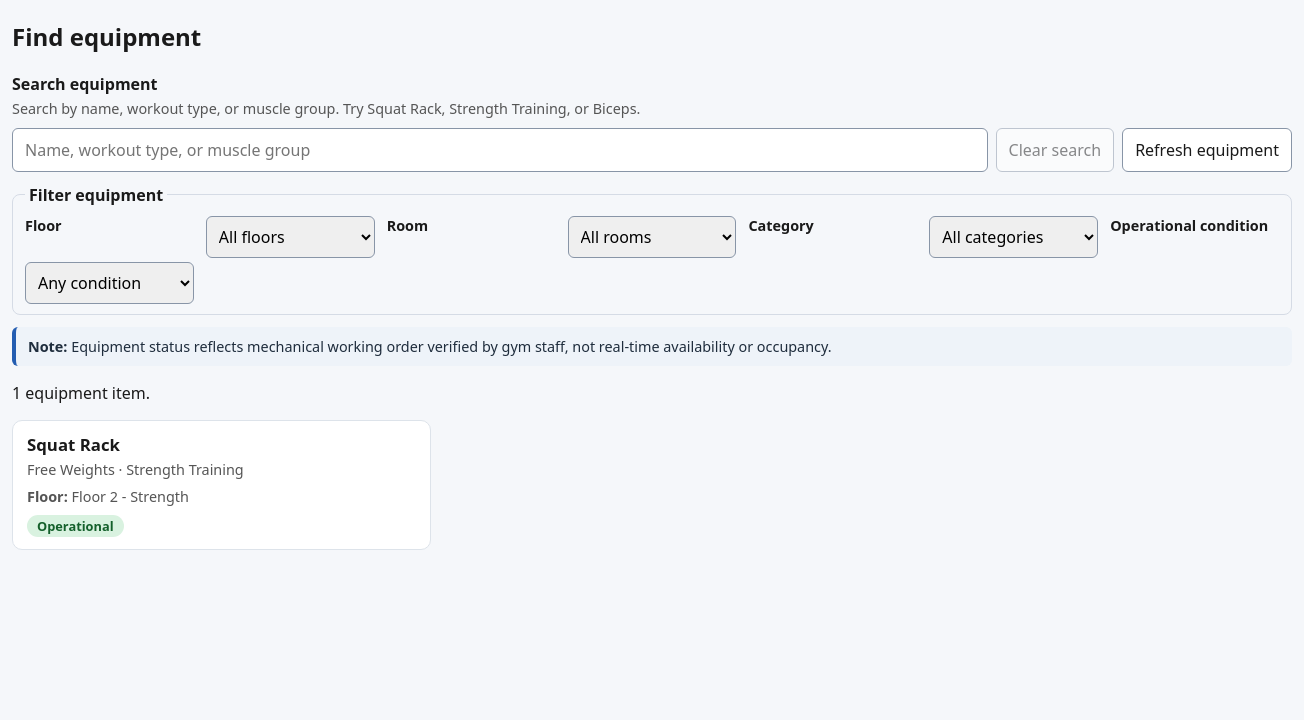
Test: shows spelling guidance when a query has no results, and Clear search restores the catalog
The width and height of the screenshot is (1304, 720).
expect the heading "Squat Rack" is shown: met, box [27,433,120,456]
Type "zzzz" into the search field at (500, 150), box [12,128,988,172]
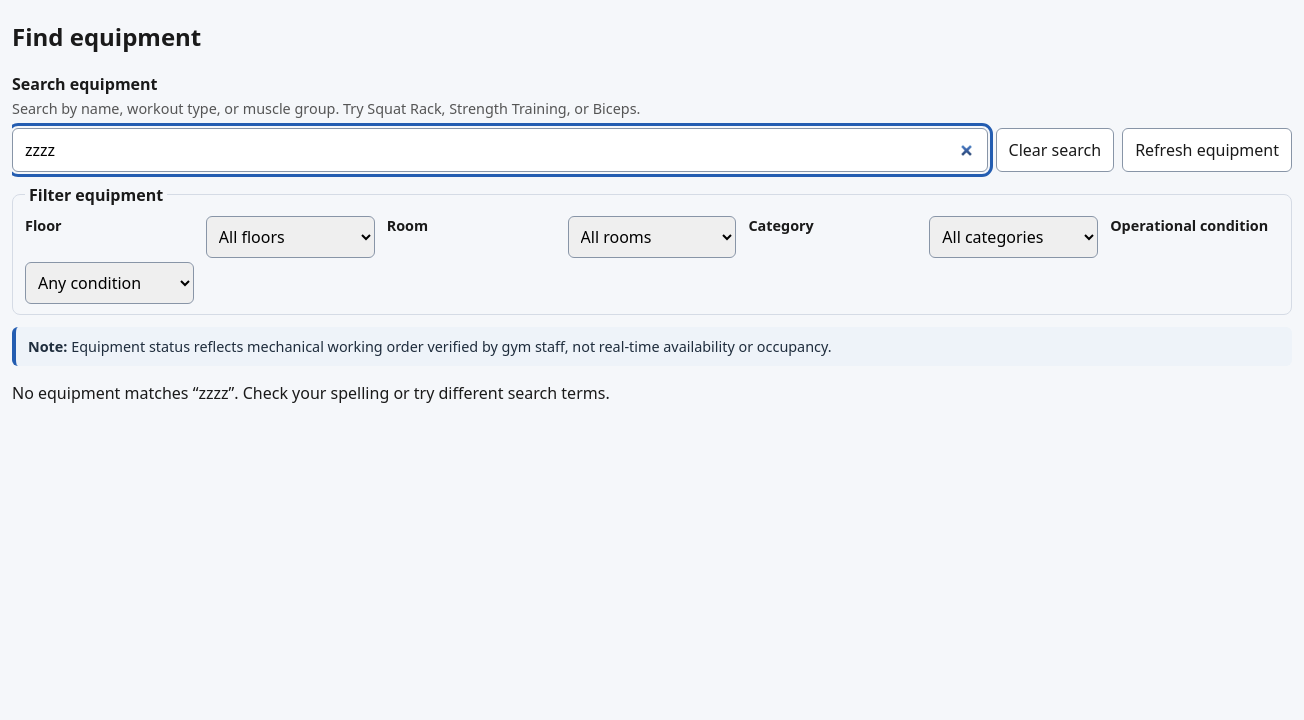
expect the text "Check your spelling or try different search terms" is shown: met, box [12,382,610,404]
Click the button "Clear search" at (1055, 150), box [996,128,1114,172]
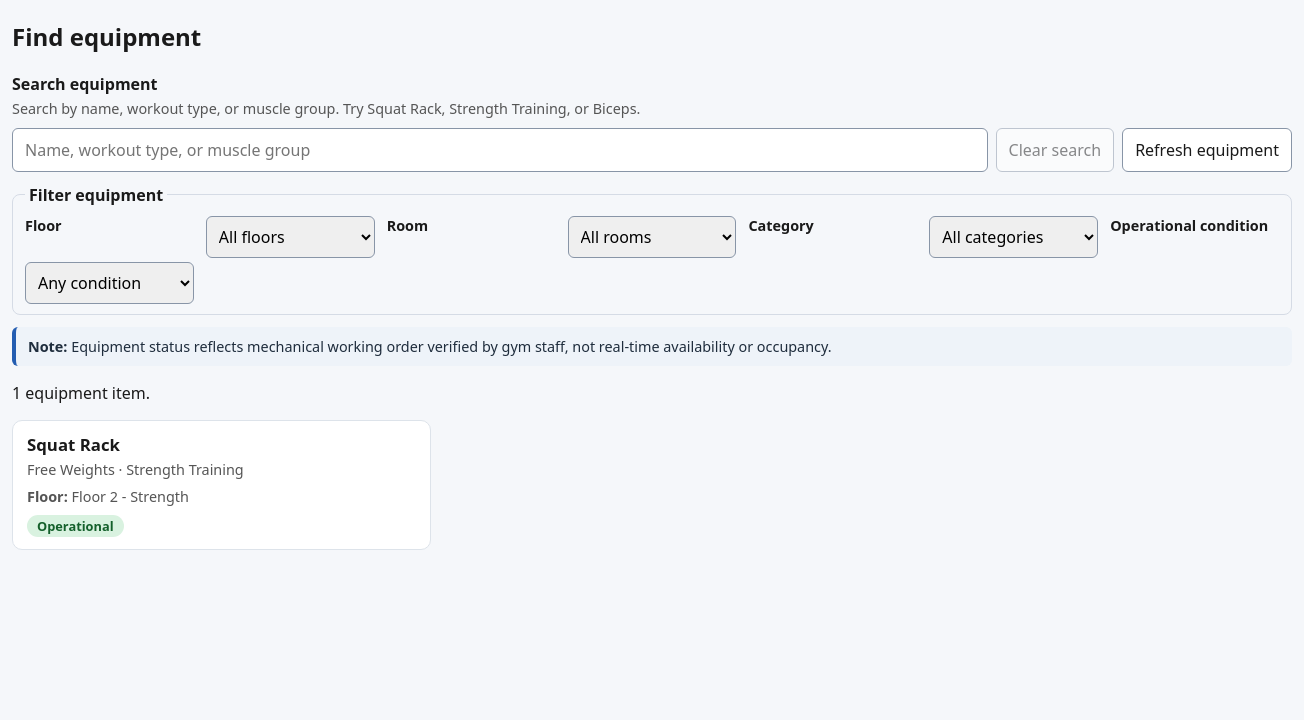
expect the heading "Squat Rack" is shown: met, box [27,433,120,456]
expect the search field is empty: met, box [12,128,988,172]
